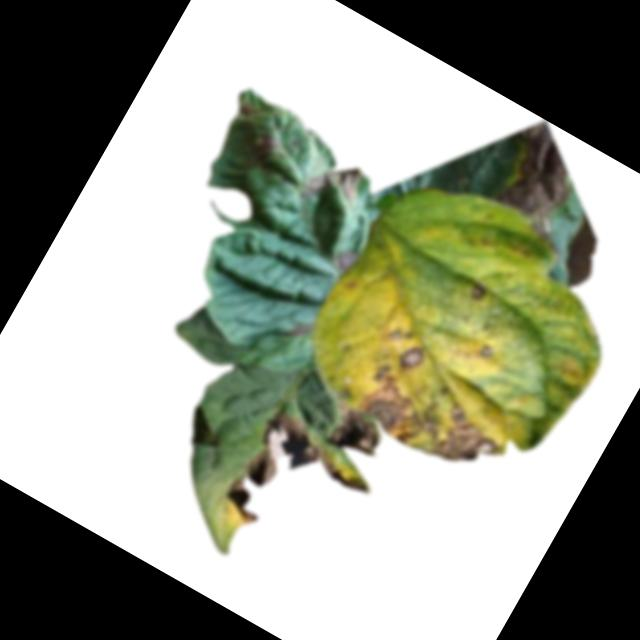Early_blight: (211, 406, 384, 576), (346, 356, 511, 487), (484, 112, 596, 234), (299, 149, 370, 219), (318, 399, 392, 466), (241, 124, 286, 170), (394, 338, 431, 378), (330, 245, 360, 279), (288, 319, 315, 346), (464, 280, 489, 306), (234, 99, 258, 121), (476, 342, 496, 363)
